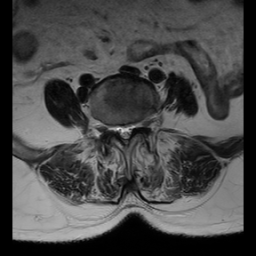CCS_normal: (121, 116, 128, 150)
LFS_stenosis: (135, 114, 142, 137)
LLS_normal: (128, 117, 135, 137)
RFS_stenosis: (108, 115, 115, 138)
RLS_stenosis: (115, 116, 122, 139)
